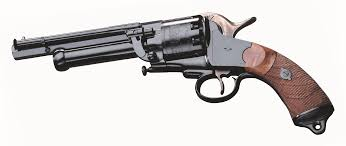gun: (8, 8, 337, 139)
